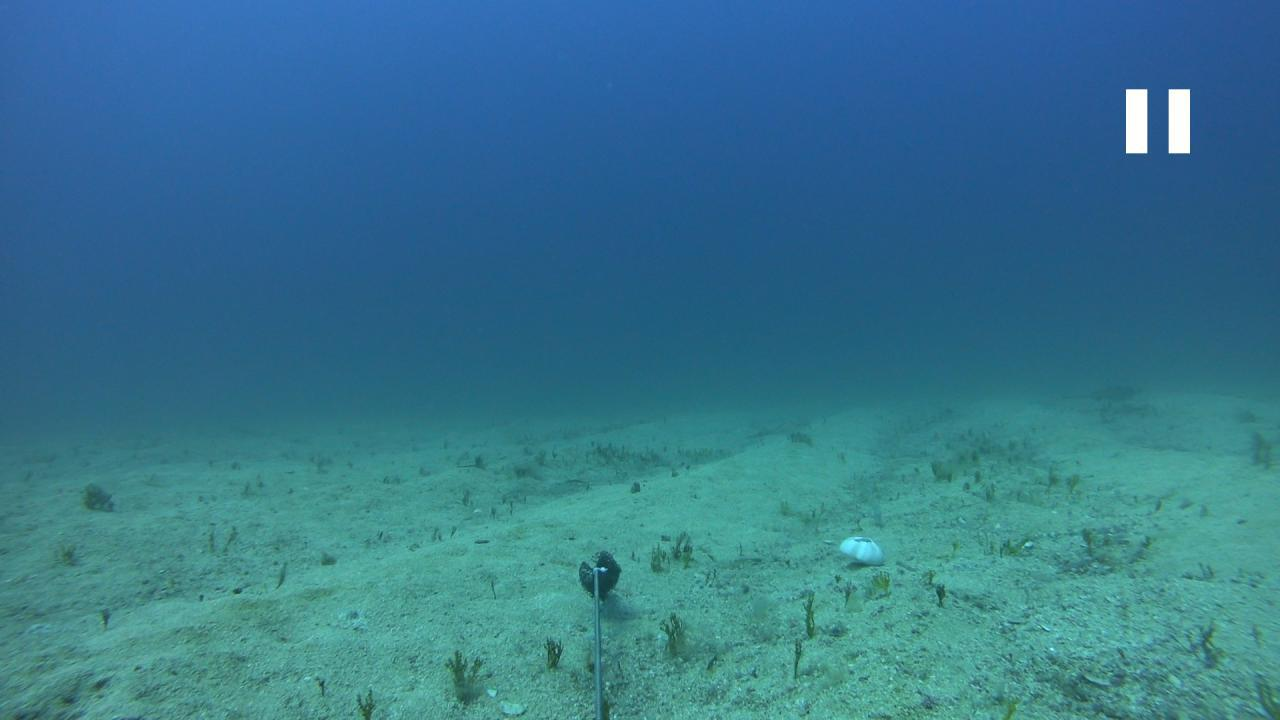dasyatis: (1058, 385, 1144, 405)
